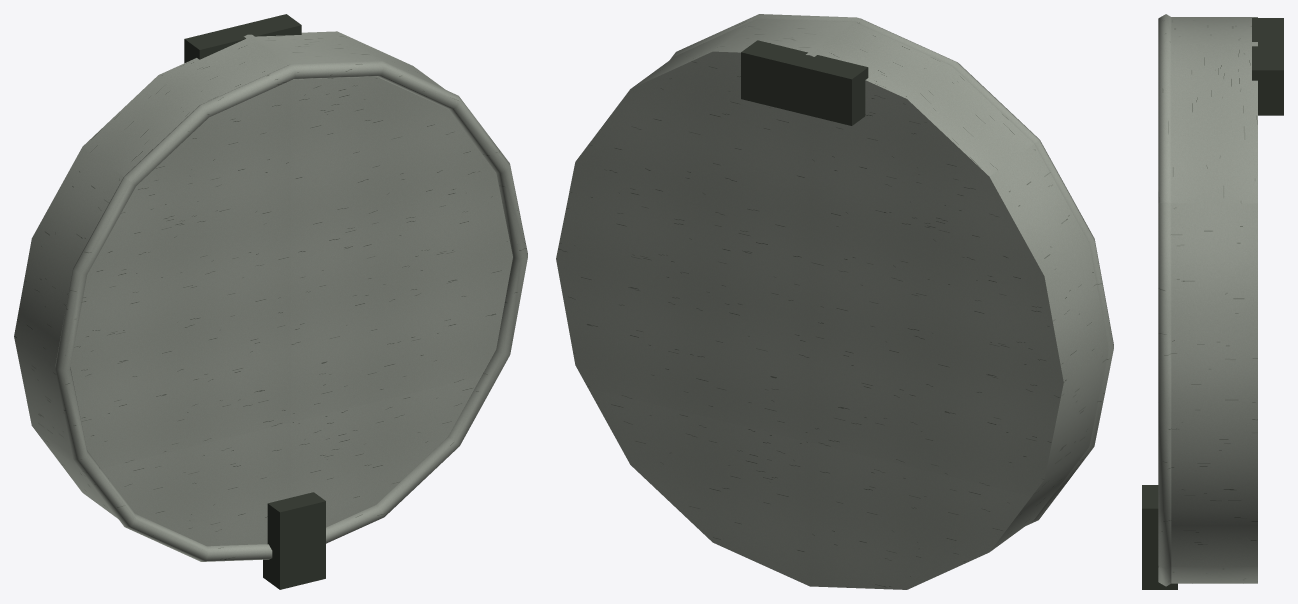
File: SM_FieldKit_LampHood_LOD1.glb
The picture shows the model from 3 angles, left to right: view 1: azimuth 30°, elevation 25°; view 2: azimuth 150°, elevation 25°; view 3: azimuth 270°, elevation 25°; orthographic projection. The views are drawn at different scales.
Visible parts, largest first — view 1: SM_FieldKit_LampHood_LOD1; view 2: SM_FieldKit_LampHood_LOD1; view 3: SM_FieldKit_LampHood_LOD1.
Part boxes in pixels (bbox=[...]): SM_FieldKit_LampHood_LOD1: bbox=[14, 14, 527, 589]; SM_FieldKit_LampHood_LOD1: bbox=[556, 14, 1113, 589]; SM_FieldKit_LampHood_LOD1: bbox=[1142, 14, 1283, 589].
Size of the model in its own units: 0.287 by 0.297 by 0.071.
2 materials, 1 textured.
